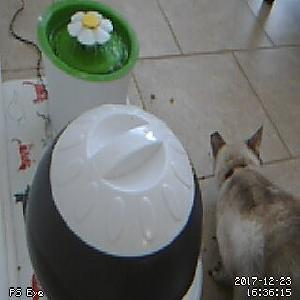cat: (206, 125, 300, 300)
fountain: (35, 1, 139, 81)
